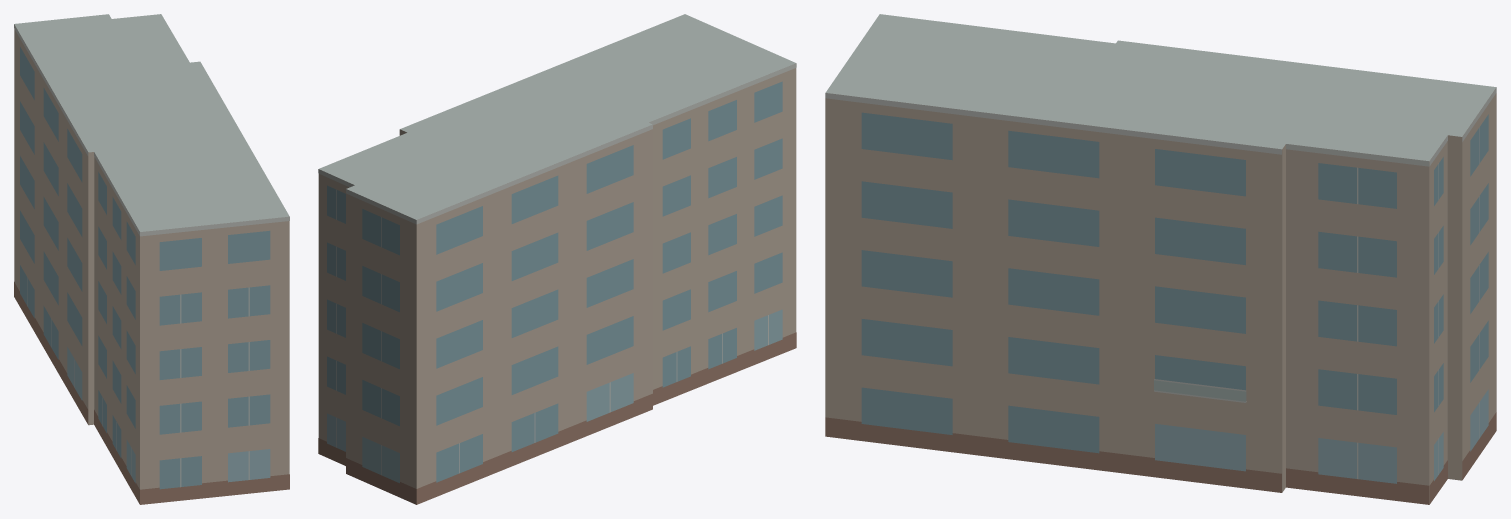
File: survey-upis-32761862.glb
3 renders of one model, left to right at view 1: azimuth 30°, elevation 25°; view 2: azimuth 150°, elevation 25°; view 3: azimuth 270°, elevation 25°, orthographic. The views are drawn at different scales.
Visible parts, largest first — view 1: survey-upis-32761862.tmp; view 2: survey-upis-32761862.tmp; view 3: survey-upis-32761862.tmp.
Boxes of the visible parts, left/top/right/bottom form: survey-upis-32761862.tmp: left=14, top=14, right=289, bottom=504; survey-upis-32761862.tmp: left=318, top=14, right=796, bottom=504; survey-upis-32761862.tmp: left=825, top=14, right=1496, bottom=504.
Bounding box in the file's own units: 14.08 × 15.32 × 27.12.
